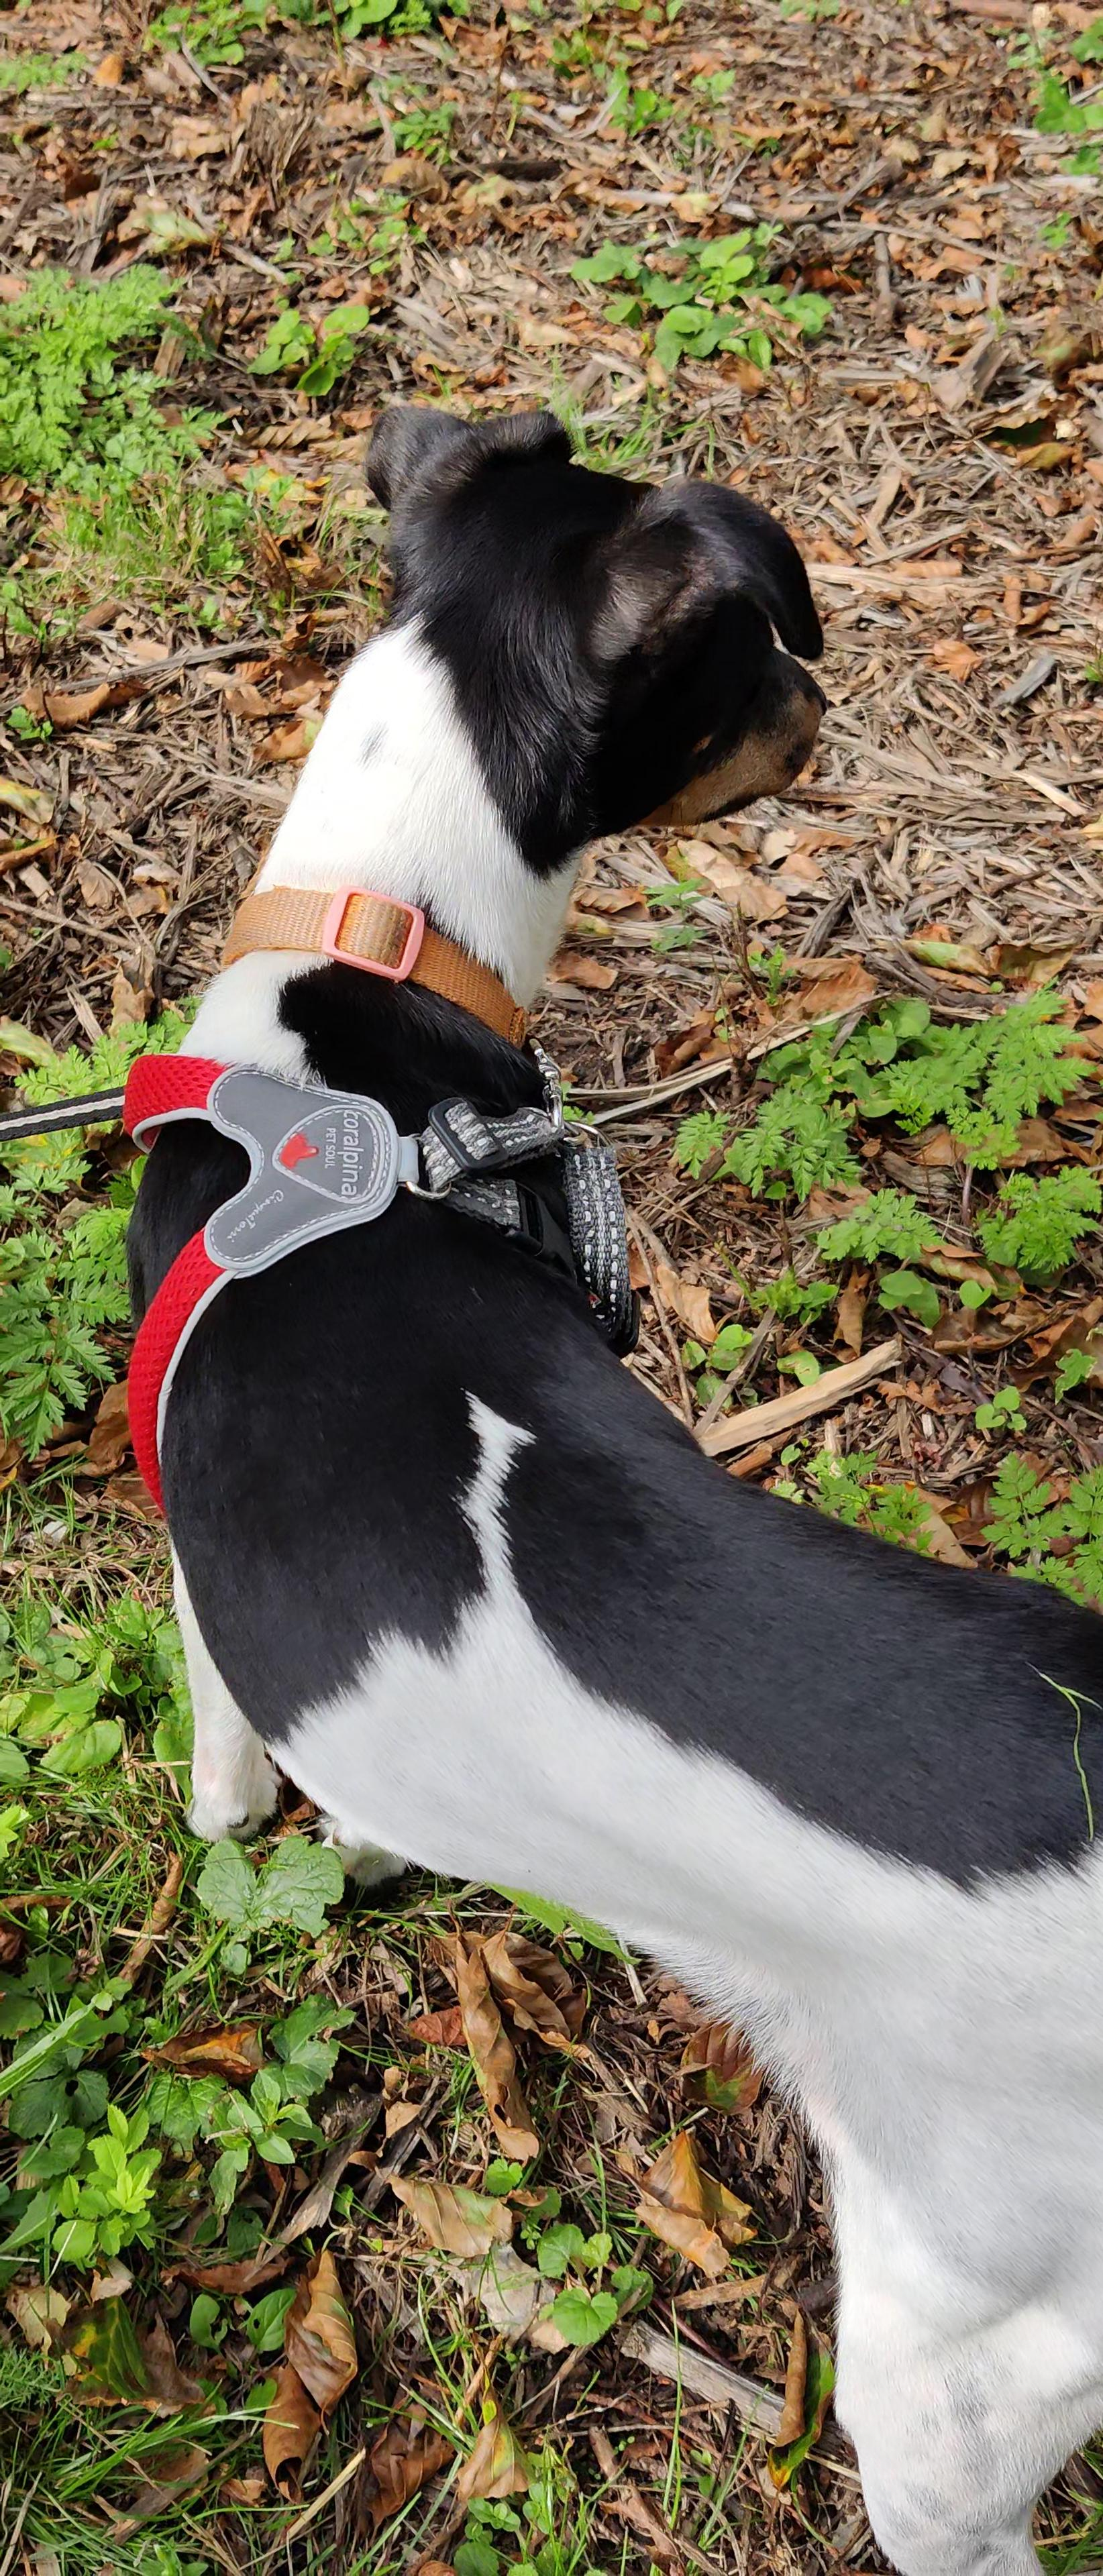Dog: (107, 391, 1103, 2576)
